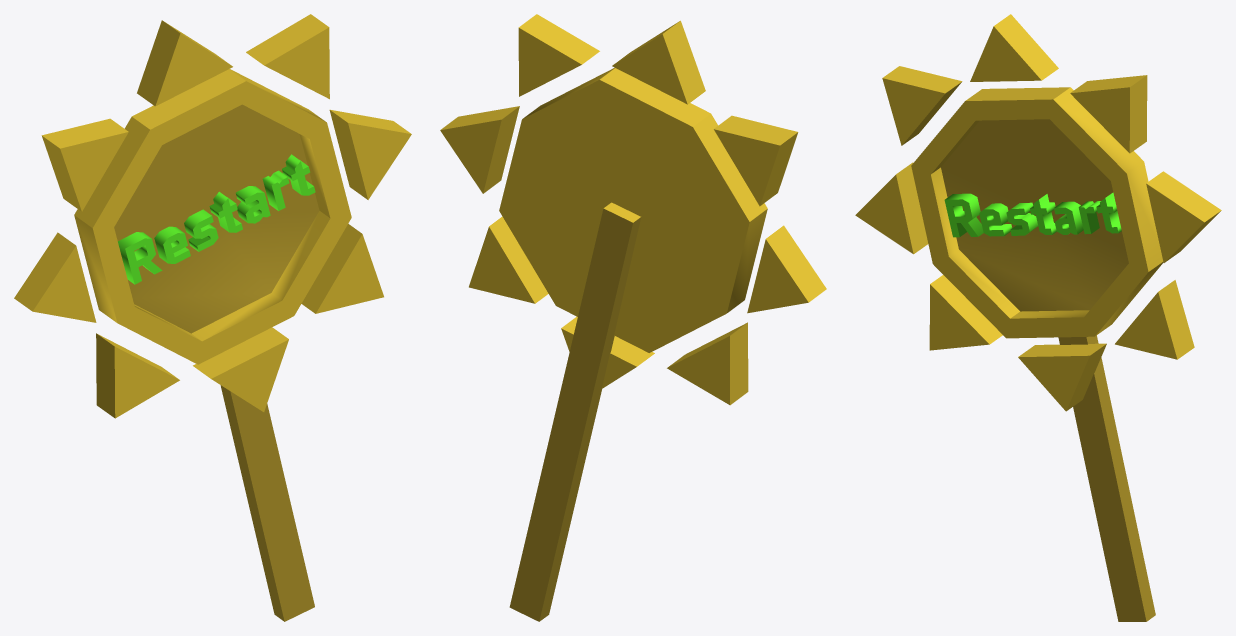
File: RestartStick.fbx
3 renders of one model, left to right at view 1: azimuth 30°, elevation 25°; view 2: azimuth 150°, elevation 25°; view 3: azimuth 330°, elevation 25°, orthographic. The views are drawn at different scales.
Visible parts, largest first — view 1: Sun; view 2: Sun; view 3: Sun.
Part boxes in pixels (x1=…): Sun: x1=14, y1=14, x2=411, y2=621; Sun: x1=440, y1=14, x2=826, y2=621; Sun: x1=855, y1=14, x2=1221, y2=621.
Size of the model in its own units: 828 by 1313 by 107.
